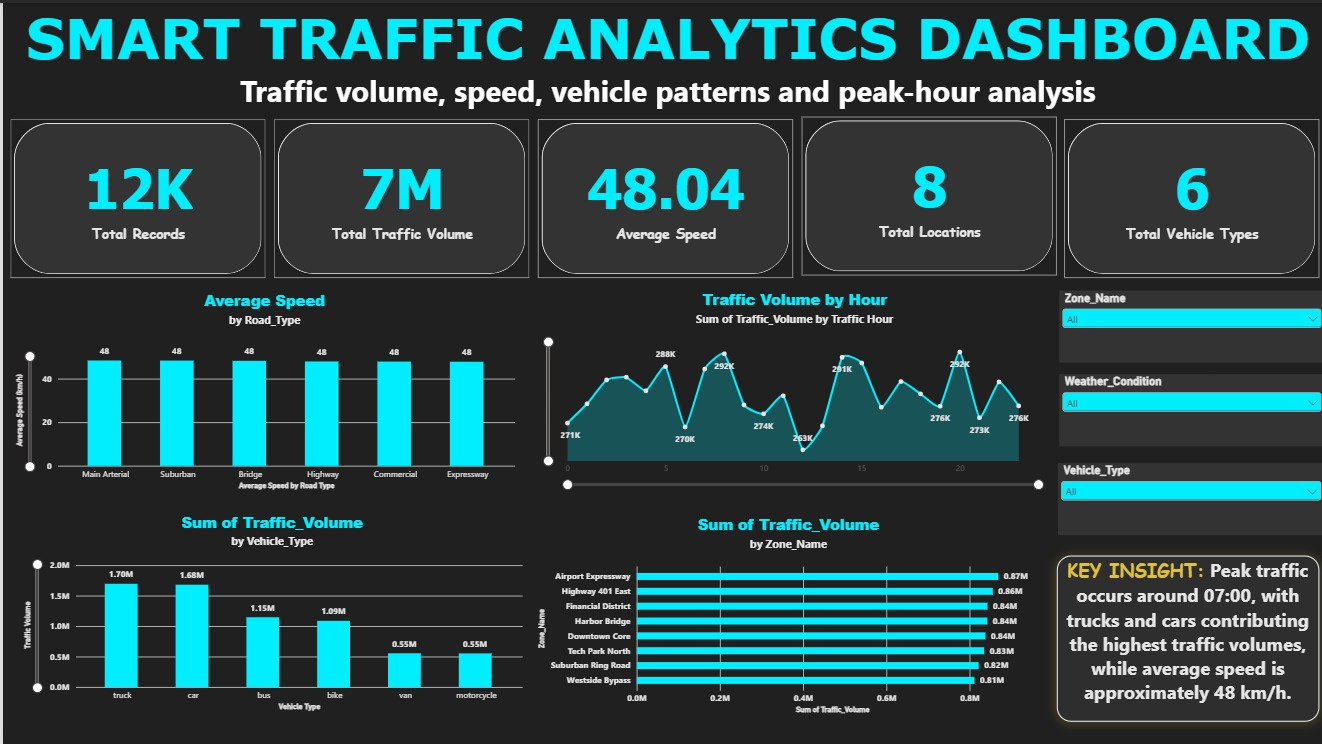

This screenshot's page, from the dashboard's own definition file:
{"tool":"powerbi","page":{"name":"Traffic Dashboard","canvas":[1920,1080],"ordinal":0},"visuals":[{"type":"textbox","box":[10,0,1910,156.7],"z":0},{"type":"cardVisual","fields":{"Data":["Traffic_Data.Total Records"]},"box":[10,168,370,230],"z":1000},{"type":"cardVisual","fields":{"Data":["Traffic_Data.Total Traffic Volume"]},"box":[394,168,370,230],"z":2000},{"type":"cardVisual","fields":{"Data":["Traffic_Data.Average Speed"]},"box":[778,168,370,230],"z":3000},{"type":"cardVisual","fields":{"Data":["Traffic_Data.Total Locations"]},"box":[1160,166,370,230],"z":4000},{"type":"cardVisual","fields":{"Data":["Traffic_Data.Total Vehicle Types"]},"box":[1541.7,168.3,370,230],"z":5000},{"type":"lineChart","title":"Traffic Volume by Hour","fields":{"Y":["Sum(Traffic_Data.Traffic_Volume)"],"Category":["Traffic_Data.Traffic Hour"]},"box":[770,401.4,760,320],"z":6000},{"type":"clusteredColumnChart","fields":{"Category":["Traffic_Data.Vehicle_Type"],"Y":["Sum(Traffic_Data.Traffic_Volume)"]},"box":[10,725,760,320],"z":7000},{"type":"clusteredBarChart","fields":{"Category":["Traffic_Data.Zone_Name"],"Y":["Sum(Traffic_Data.Traffic_Volume)"]},"box":[760,728.3,760,320],"z":8000},{"type":"clusteredColumnChart","fields":{"Category":["Traffic_Data.Road_Type"],"Y":["Traffic_Data.Average Speed"]},"box":[0,403.3,760,320],"z":9000},{"type":"slicer","fields":{"Values":["Traffic_Data.Zone_Name"]},"box":[1534,418,386,105],"z":10000},{"type":"slicer","fields":{"Values":["Traffic_Data.Vehicle_Type"]},"box":[1533,669,387,105],"z":11000},{"type":"slicer","fields":{"Values":["Traffic_Data.Weather_Condition"]},"box":[1534,540,386,105],"z":12000},{"type":"textbox","box":[1530,803.3,381.7,241.7],"z":12001}]}

Visuals, with their boxes in screenshot pixels (x1, y1, x2, y2), scaled from the page's 1920x1080 canvas onto the 1322x744 screenshot:
textbox: <bbox>7, 0, 1321, 108</bbox>
cardVisual - Traffic_Data.Total Records: <bbox>7, 116, 262, 274</bbox>
cardVisual - Traffic_Data.Total Traffic Volume: <bbox>271, 116, 526, 274</bbox>
cardVisual - Traffic_Data.Average Speed: <bbox>536, 116, 790, 274</bbox>
cardVisual - Traffic_Data.Total Locations: <bbox>799, 114, 1053, 273</bbox>
cardVisual - Traffic_Data.Total Vehicle Types: <bbox>1062, 116, 1316, 274</bbox>
"Traffic Volume by Hour" lineChart: <bbox>530, 277, 1053, 497</bbox>
clusteredColumnChart - Traffic_Data.Vehicle_Type x Sum(Traffic_Data.Traffic_Volume): <bbox>7, 499, 530, 720</bbox>
clusteredBarChart - Traffic_Data.Zone_Name x Sum(Traffic_Data.Traffic_Volume): <bbox>523, 502, 1047, 722</bbox>
clusteredColumnChart - Traffic_Data.Road_Type x Traffic_Data.Average Speed: <bbox>0, 278, 523, 498</bbox>
slicer - Traffic_Data.Zone_Name: <bbox>1056, 288, 1321, 360</bbox>
slicer - Traffic_Data.Vehicle_Type: <bbox>1056, 461, 1321, 533</bbox>
slicer - Traffic_Data.Weather_Condition: <bbox>1056, 372, 1321, 444</bbox>
textbox: <bbox>1053, 553, 1316, 720</bbox>
